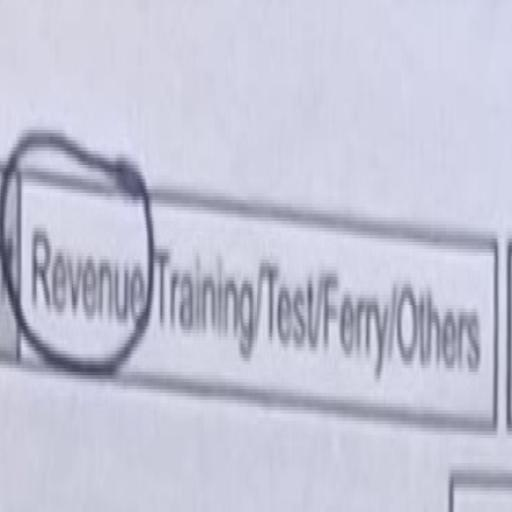check: (5, 100, 155, 414)
